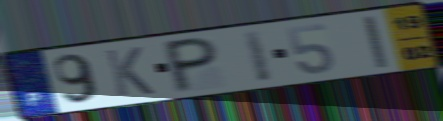5: (284, 21, 337, 76)
9: (52, 52, 100, 105)
I: (240, 27, 276, 85), (359, 13, 392, 71)
K: (102, 45, 158, 99)
P: (164, 35, 220, 96)
